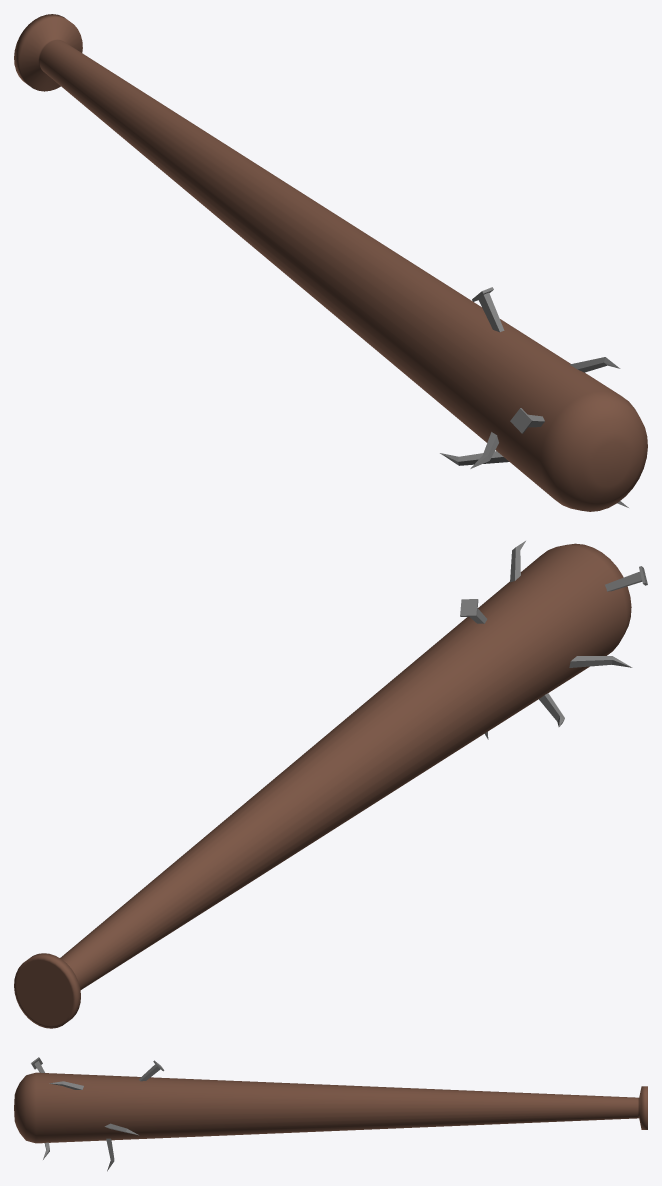
File: Pat.fbx
3 renders of one model, top to bottom at view 1: azimuth 30°, elevation 25°; view 2: azimuth 150°, elevation 25°; view 3: azimuth 270°, elevation 25°, orthographic. The views are drawn at different scales.
Parts seen in each view (by area): view 1: PatFinal; view 2: PatFinal; view 3: PatFinal.
Boxes of the visible parts, <box> form: PatFinal: <box>14,14,647,511</box>; PatFinal: <box>14,541,647,1028</box>; PatFinal: <box>14,1057,647,1171</box>.
Size of the model in its own units: 15.74 by 18.16 by 101.
